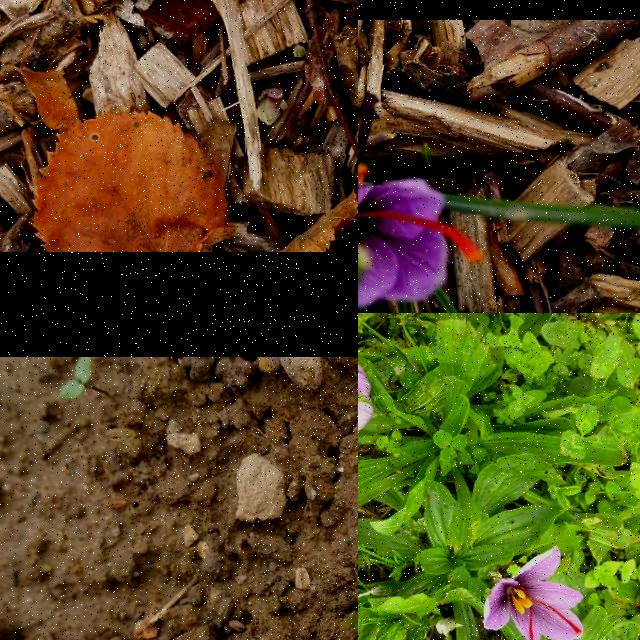flower: (358, 135, 479, 313), (483, 546, 584, 640)
